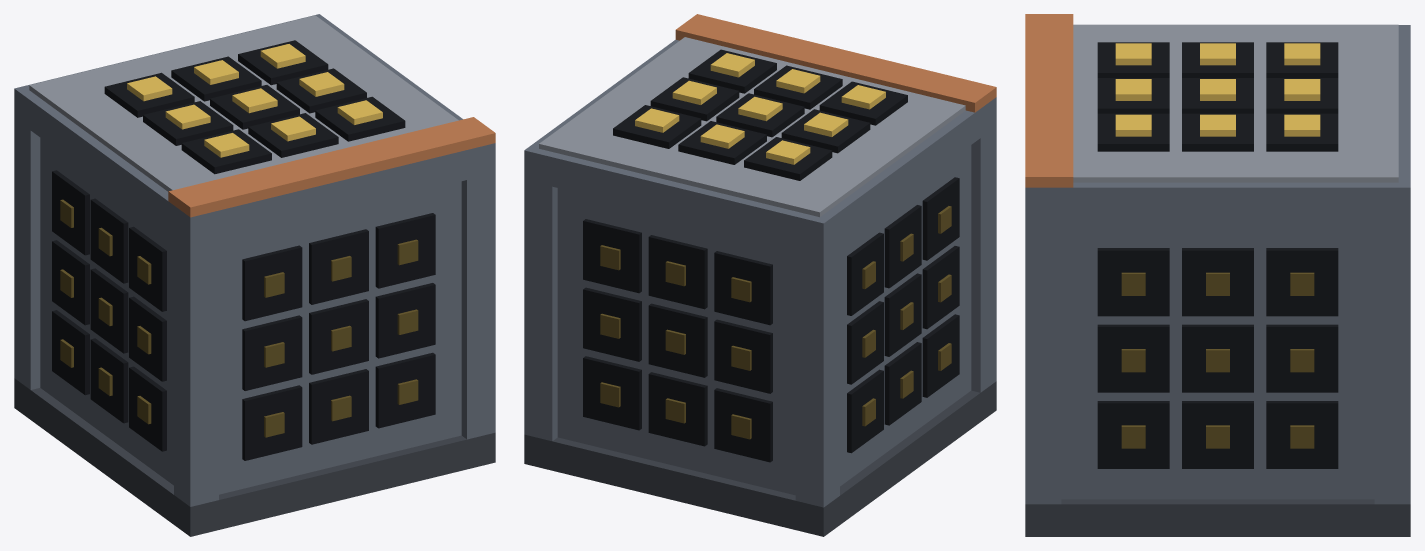
File: crafter.glb
3 views of the same model, side by side, from view 1: azimuth 30°, elevation 25°; view 2: azimuth 150°, elevation 25°; view 3: azimuth 270°, elevation 25° (orthographic). The views are drawn at different scales.
Parts seen in each view (by area): view 1: body.011, tier.003, lit4, lit6, lit0, lit2, lit5, lit8, lit3, lit7, lit1; view 2: body.011, tier.003, lit0, lit4, lit6, lit7, lit1, lit2, lit8, lit3, lit5; view 3: body.011, tier.003, lit0, lit2, lit6, lit8, lit3, lit5, lit1, lit7, lit4.
Part boxes in pixels (<box>): body.011: <box>14,14,495,536</box>; tier.003: <box>168,117,495,217</box>; lit4: <box>232,88,277,113</box>; lit6: <box>127,76,172,101</box>; lit0: <box>204,133,249,157</box>; lit2: <box>337,100,382,124</box>; lit5: <box>299,72,344,96</box>; lit8: <box>260,44,305,68</box>; lit3: <box>165,104,210,129</box>; lit7: <box>194,60,238,84</box>; lit1: <box>271,116,315,141</box>; body.011: <box>524,37,996,536</box>; tier.003: <box>675,14,996,112</box>; lit0: <box>841,85,885,109</box>; lit4: <box>738,96,782,121</box>; lit6: <box>766,140,810,164</box>; lit7: <box>700,124,744,148</box>; lit1: <box>776,69,820,93</box>; lit2: <box>710,53,754,77</box>; lit8: <box>635,108,679,132</box>; lit3: <box>804,112,848,136</box>; lit5: <box>672,80,716,104</box>; body.011: <box>1025,24,1410,536</box>; tier.003: <box>1025,14,1073,187</box>; lit0: <box>1115,43,1151,65</box>; lit2: <box>1115,114,1151,136</box>; lit6: <box>1284,43,1320,65</box>; lit8: <box>1284,114,1320,136</box>; lit3: <box>1200,43,1235,65</box>; lit5: <box>1200,114,1235,136</box>; lit1: <box>1115,79,1151,100</box>; lit7: <box>1284,79,1320,100</box>; lit4: <box>1200,79,1235,100</box>.
Bounding box in the file's own units: 1 × 1.06 × 1.
